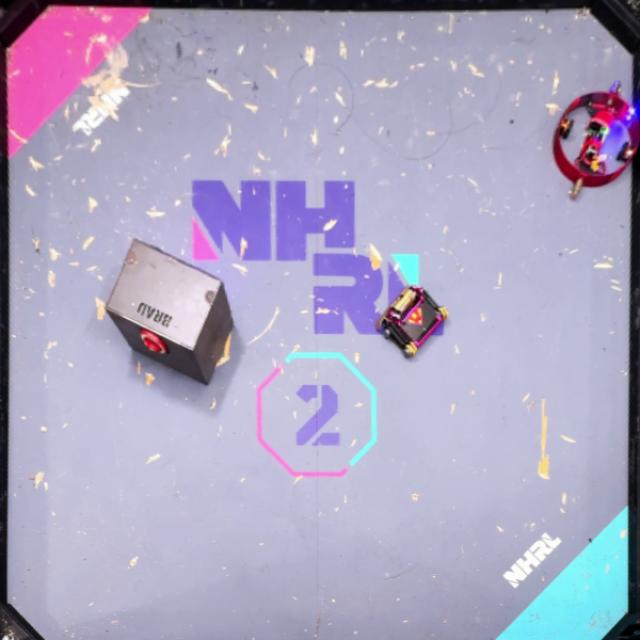housebot: (106, 238, 235, 386)
robot: (551, 81, 640, 198), (376, 284, 448, 359)
